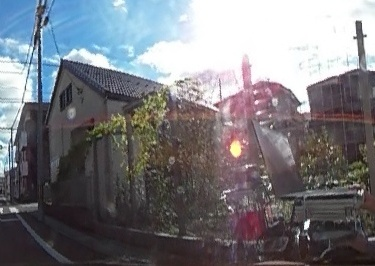person: (347, 35, 375, 266)
